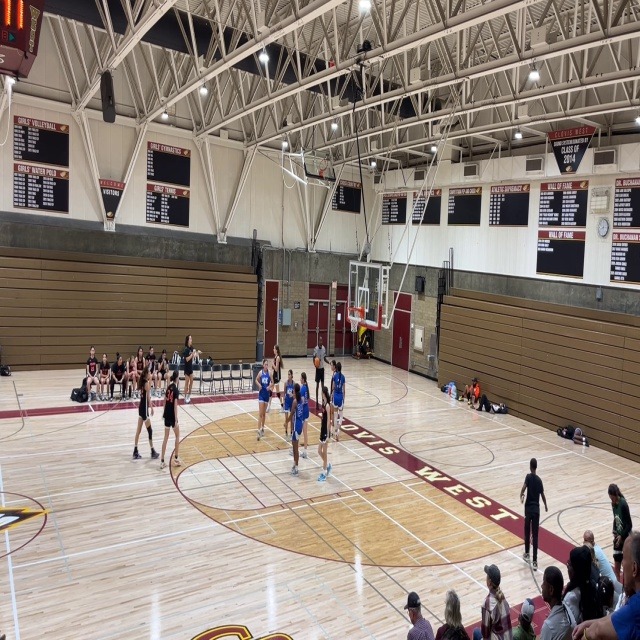Basketball: (313, 357, 320, 368)
